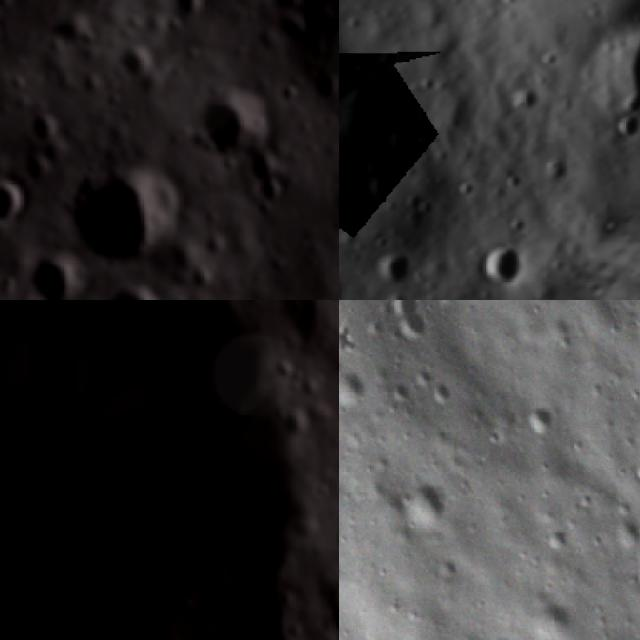crater: (0, 300, 339, 640), (568, 0, 640, 136), (74, 167, 178, 259), (384, 458, 470, 542), (465, 227, 541, 300), (188, 96, 268, 158), (506, 385, 571, 446), (363, 236, 421, 295), (533, 578, 588, 638), (28, 250, 86, 300), (339, 358, 381, 418), (424, 541, 474, 589), (378, 366, 425, 414), (417, 369, 464, 415), (601, 98, 640, 151), (398, 306, 439, 346), (118, 45, 151, 87), (272, 408, 310, 440), (0, 181, 28, 221), (517, 621, 573, 640), (255, 174, 289, 203), (339, 256, 359, 300), (105, 284, 157, 300), (167, 0, 209, 18), (23, 115, 54, 136), (277, 82, 297, 110), (328, 600, 339, 636), (9, 73, 26, 95)
